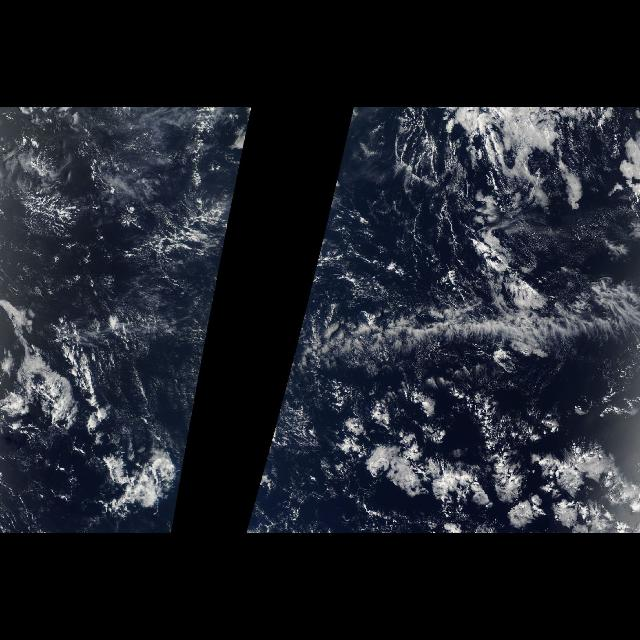Fish: (289, 249, 639, 396)
Flower: (300, 379, 640, 533)
